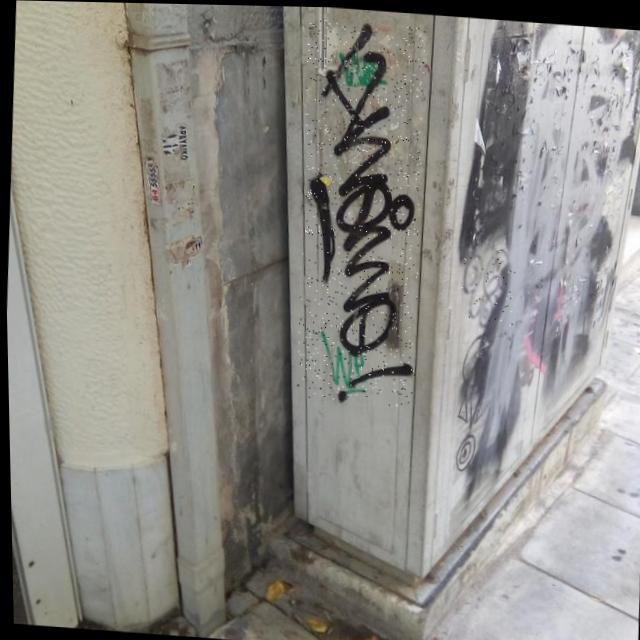-: (288, 17, 432, 406), (458, 246, 517, 332)
